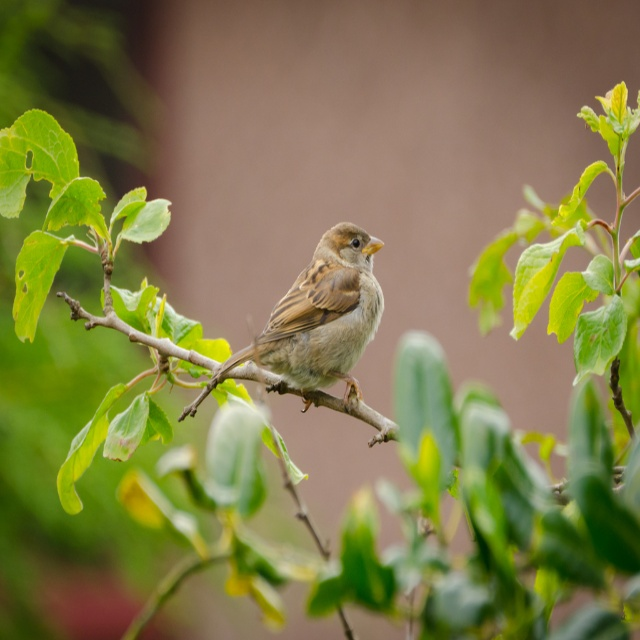Sparrow: (212, 221, 385, 413)
